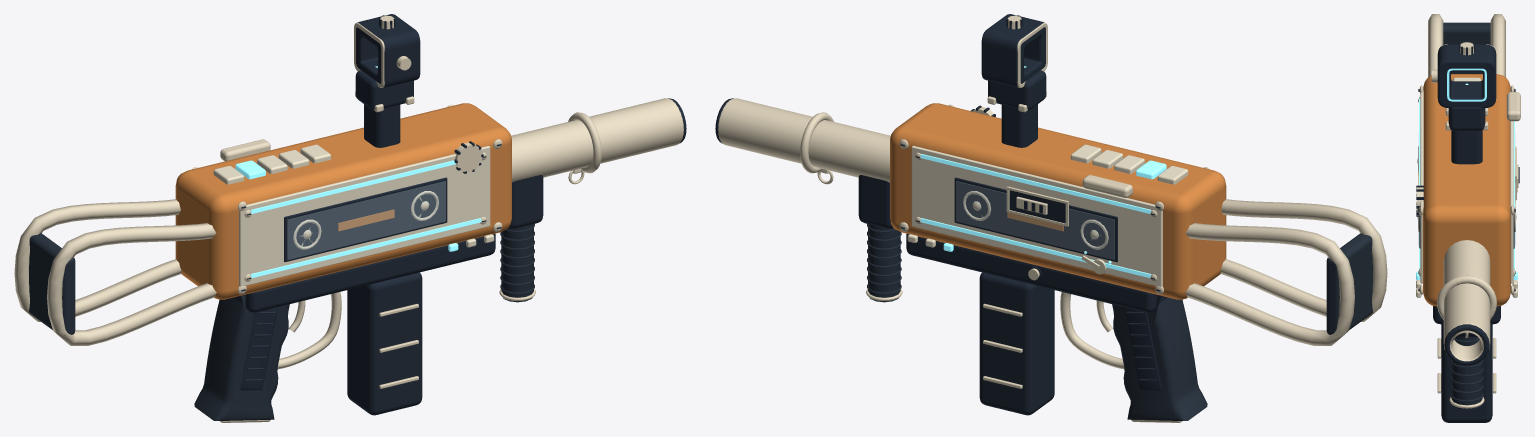
The model's file is mixtape.glb.
3 renders of one model, left to right at view 1: azimuth 30°, elevation 25°; view 2: azimuth 150°, elevation 25°; view 3: azimuth 270°, elevation 25°, orthographic. The views are drawn at different scales.
Parts seen in each view (by area): view 1: 02_Firefly_SMG__body_Sculpt_coat, 02_Firefly_SMG__body_Sculpt_frame, 02_Firefly_SMG__body_Sculpt_pearl, 02_Firefly_SMG__stock_Sculpt_metal, 02_Firefly_SMG__body_Sculpt_metal, 02_Firefly_SMG__magazine_Sculpt_frame, 02_Firefly_SMG__body_Sculpt_grip, 02_Firefly_SMG__body_Sculpt_glass, 02_Firefly_SMG__optic_Sculpt_frame, 02_Firefly_SMG__stock_Sculpt_grip, 02_Firefly_SMG__body_Sculpt_glow, 02_Firefly_SMG__fore_end_Sculpt_grip (+3 smaller); view 2: 02_Firefly_SMG__body_Sculpt_coat, 02_Firefly_SMG__body_Sculpt_frame, 02_Firefly_SMG__body_Sculpt_pearl, 02_Firefly_SMG__body_Sculpt_metal, 02_Firefly_SMG__stock_Sculpt_metal, 02_Firefly_SMG__magazine_Sculpt_frame, 02_Firefly_SMG__body_Sculpt_grip, 02_Firefly_SMG__optic_Sculpt_frame, 02_Firefly_SMG__body_Sculpt_glass, 02_Firefly_SMG__stock_Sculpt_grip, 02_Firefly_SMG__body_Sculpt_glow, 02_Firefly_SMG__fore_end_Sculpt_grip (+3 smaller); view 3: 02_Firefly_SMG__body_Sculpt_coat, 02_Firefly_SMG__body_Sculpt_metal, 02_Firefly_SMG__optic_Sculpt_frame, 02_Firefly_SMG__magazine_Sculpt_frame, 02_Firefly_SMG__fore_end_Sculpt_grip, 02_Firefly_SMG__stock_Sculpt_metal, 02_Firefly_SMG__body_Sculpt_pearl, 02_Firefly_SMG__body_Sculpt_frame, 02_Firefly_SMG__stock_Sculpt_grip, 02_Firefly_SMG__body_Sculpt_glow, 02_Firefly_SMG__bolt_Sculpt_metal, 02_Firefly_SMG__optic_Sculpt_metal (+4 smaller).
Boxes of the visible parts, x1,y1,x2,y2 form: 02_Firefly_SMG__body_Sculpt_coat: [175, 103, 511, 299]; 02_Firefly_SMG__body_Sculpt_frame: [234, 98, 686, 390]; 02_Firefly_SMG__body_Sculpt_pearl: [213, 144, 494, 286]; 02_Firefly_SMG__stock_Sculpt_metal: [14, 199, 216, 345]; 02_Firefly_SMG__body_Sculpt_metal: [192, 98, 683, 422]; 02_Firefly_SMG__magazine_Sculpt_frame: [347, 272, 422, 415]; 02_Firefly_SMG__body_Sculpt_grip: [194, 294, 289, 420]; 02_Firefly_SMG__body_Sculpt_glass: [287, 181, 445, 259]; 02_Firefly_SMG__optic_Sculpt_frame: [355, 14, 420, 147]; 02_Firefly_SMG__stock_Sculpt_grip: [29, 233, 75, 335]; 02_Firefly_SMG__body_Sculpt_glow: [235, 160, 481, 278]; 02_Firefly_SMG__fore_end_Sculpt_grip: [500, 224, 534, 302]; 02_Firefly_SMG__body_Sculpt_coat: [890, 103, 1226, 299]; 02_Firefly_SMG__body_Sculpt_frame: [715, 98, 1167, 390]; 02_Firefly_SMG__body_Sculpt_pearl: [907, 144, 1188, 286]; 02_Firefly_SMG__body_Sculpt_metal: [718, 98, 1209, 422]; 02_Firefly_SMG__stock_Sculpt_metal: [1185, 199, 1387, 345]; 02_Firefly_SMG__magazine_Sculpt_frame: [979, 272, 1054, 415]; 02_Firefly_SMG__body_Sculpt_grip: [1112, 294, 1207, 420]; 02_Firefly_SMG__optic_Sculpt_frame: [981, 14, 1046, 147]; 02_Firefly_SMG__body_Sculpt_glass: [956, 181, 1114, 259]; 02_Firefly_SMG__stock_Sculpt_grip: [1326, 233, 1372, 334]; 02_Firefly_SMG__body_Sculpt_glow: [920, 154, 1166, 278]; 02_Firefly_SMG__fore_end_Sculpt_grip: [867, 224, 901, 302]; 02_Firefly_SMG__body_Sculpt_coat: [1418, 74, 1515, 306]; 02_Firefly_SMG__body_Sculpt_metal: [1416, 85, 1517, 361]; 02_Firefly_SMG__optic_Sculpt_frame: [1437, 41, 1496, 164]; 02_Firefly_SMG__magazine_Sculpt_frame: [1441, 324, 1492, 422]; 02_Firefly_SMG__fore_end_Sculpt_grip: [1450, 337, 1483, 409]; 02_Firefly_SMG__stock_Sculpt_metal: [1428, 14, 1505, 77]; 02_Firefly_SMG__body_Sculpt_pearl: [1416, 77, 1517, 297]; 02_Firefly_SMG__body_Sculpt_frame: [1416, 89, 1515, 365]; 02_Firefly_SMG__stock_Sculpt_grip: [1443, 22, 1490, 73]; 02_Firefly_SMG__body_Sculpt_glow: [1416, 98, 1517, 279]; 02_Firefly_SMG__bolt_Sculpt_metal: [1506, 92, 1520, 188]; 02_Firefly_SMG__optic_Sculpt_metal: [1431, 42, 1493, 130].
Size of the model in its own units: 2.52 by 1.43 by 0.3695.
